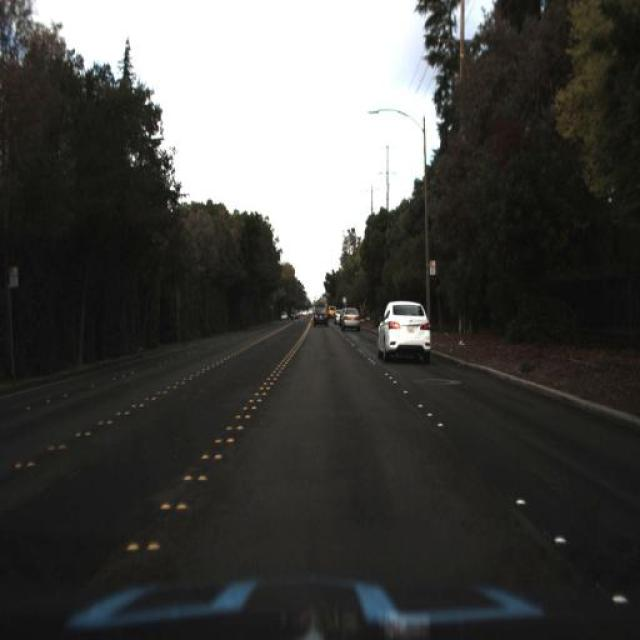car: (378, 296, 437, 360), (342, 302, 363, 336), (310, 305, 330, 329)
